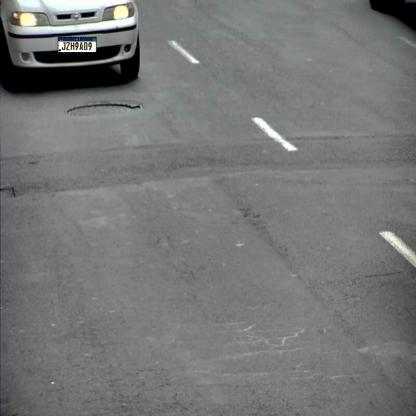PlacaM: (58, 36, 96, 52)
